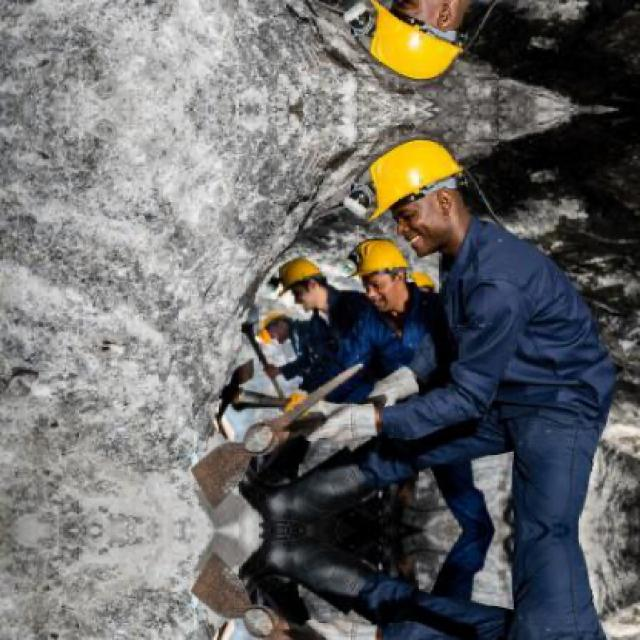2: (372, 143, 628, 529), (337, 236, 465, 529), (370, 534, 628, 638), (278, 255, 389, 488), (370, 0, 628, 77), (337, 534, 466, 638), (243, 312, 326, 407), (277, 576, 389, 638)
helmet: (357, 127, 480, 260), (355, 0, 480, 94), (350, 233, 412, 310), (277, 254, 332, 312), (258, 310, 291, 342), (408, 270, 435, 293)
